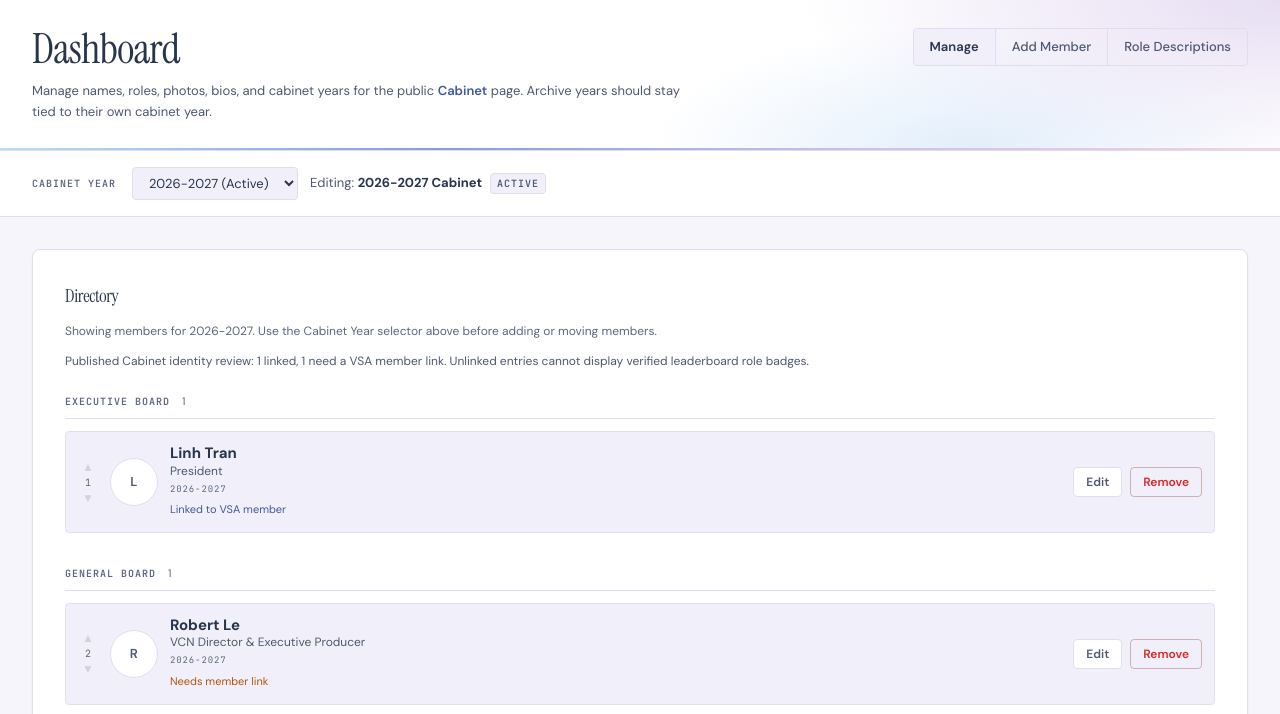
Test case: verified published Cabinet links for leaderboard role recognition (#626) › resolves an existing linked identity without guessing from a display name
Expected: the text "1 linked, 1 need a VSA member link" is shown, [65,353,809,369]
What coordinates should you click on to do the following:
click the button "Edit" in the row of "President"
I would click on:
 (1098, 482)
Its box is [1073,467,1122,497].
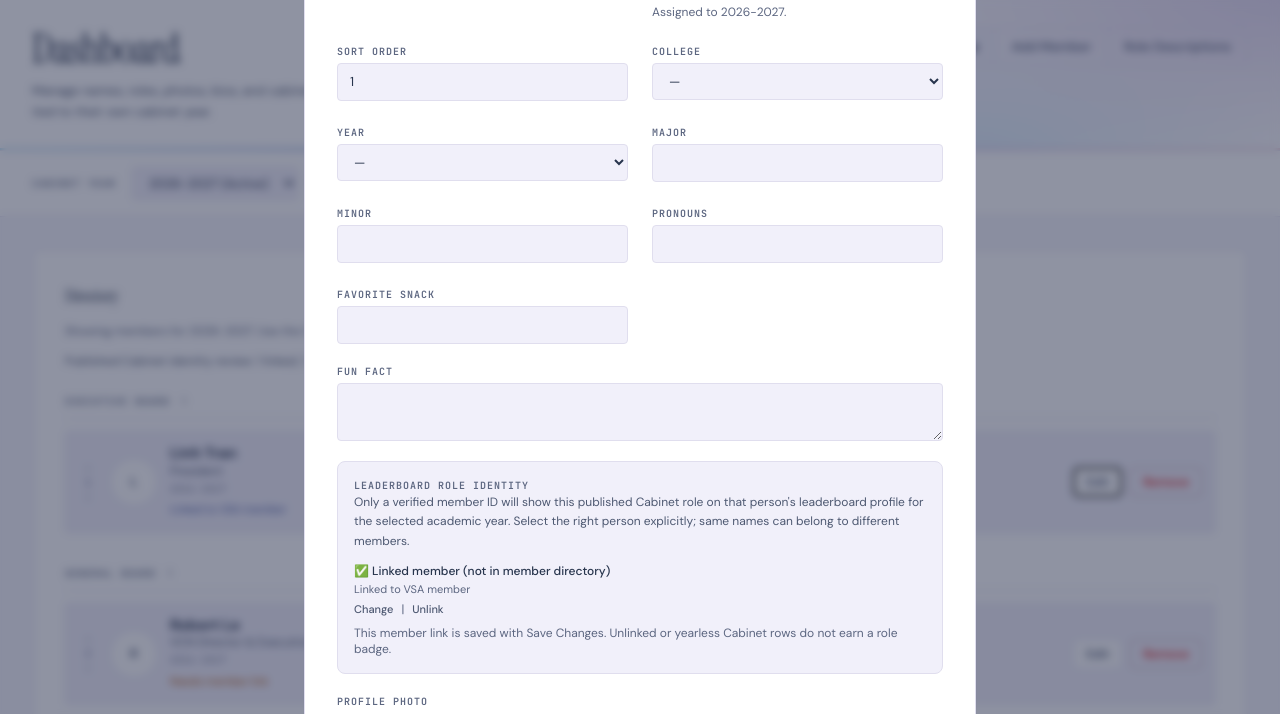
Expected: the text "Linked member (not in member directory)" is shown, [372,563,610,579]
